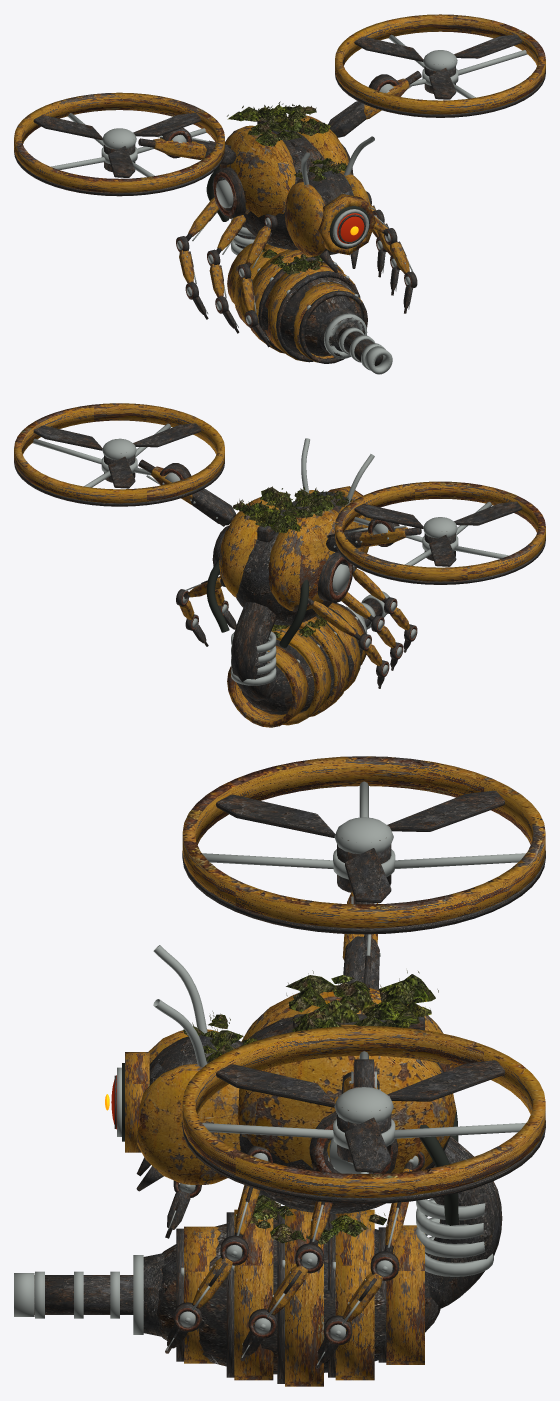
The model's file is rust-wasp-drone.glb.
3 renders of one model, top to bottom at view 1: azimuth 30°, elevation 25°; view 2: azimuth 150°, elevation 25°; view 3: azimuth 270°, elevation 25°, orthographic. The views are drawn at different scales.
Parts seen in each view (by area): view 1: Thorax_Mesh, Rotor_mount_1_Mesh, Rotor_mount_-1_Mesh, Abdomen_Mesh, Head_Mesh, Rotor_-1_Mesh, Rotor_1_Mesh, Stinger_gun_Mesh, Wasp_leg_-1_0_Mesh, Wasp_leg_-1_2_Mesh, Wasp_leg_-1_1_Mesh, Wasp_leg_1_0_Mesh (+1 smaller); view 2: Thorax_Mesh, Abdomen_Mesh, Rotor_mount_1_Mesh, Rotor_mount_-1_Mesh, Rotor_-1_Mesh, Rotor_1_Mesh, Head_Mesh, Wasp_leg_-1_2_Mesh, Wasp_leg_-1_0_Mesh, Wasp_leg_-1_1_Mesh, Wasp_leg_1_2_Mesh, Stinger_gun_Mesh; view 3: Abdomen_Mesh, Rotor_mount_-1_Mesh, Rotor_mount_1_Mesh, Thorax_Mesh, Head_Mesh, Rotor_1_Mesh, Rotor_-1_Mesh, Stinger_gun_Mesh, Wasp_leg_1_0_Mesh, Wasp_leg_1_2_Mesh, Wasp_leg_1_1_Mesh, Wasp_leg_-1_0_Mesh.
Part boxes in pixels (left/top/right/bottom): Thorax_Mesh: left=206, top=101, right=353, bottom=249; Rotor_mount_1_Mesh: left=328, top=14, right=545, bottom=137; Rotor_mount_-1_Mesh: left=14, top=92, right=236, bottom=196; Abdomen_Mesh: left=227, top=218, right=367, bottom=363; Head_Mesh: left=285, top=136, right=376, bottom=272; Rotor_-1_Mesh: left=33, top=112, right=201, bottom=177; Rotor_1_Mesh: left=354, top=34, right=522, bottom=99; Stinger_gun_Mesh: left=319, top=308, right=392, bottom=374; Wasp_leg_-1_0_Mesh: left=238, top=214, right=277, bottom=347; Wasp_leg_-1_2_Mesh: left=176, top=197, right=219, bottom=319; Wasp_leg_-1_1_Mesh: left=207, top=215, right=246, bottom=333; Wasp_leg_1_0_Mesh: left=373, top=215, right=417, bottom=313; Thorax_Mesh: left=206, top=486, right=353, bottom=647; Abdomen_Mesh: left=227, top=602, right=366, bottom=727; Rotor_mount_1_Mesh: left=14, top=403, right=235, bottom=526; Rotor_mount_-1_Mesh: left=326, top=481, right=545, bottom=584; Rotor_-1_Mesh: left=354, top=501, right=522, bottom=566; Rotor_1_Mesh: left=33, top=423, right=201, bottom=488; Head_Mesh: left=295, top=438, right=374, bottom=568; Wasp_leg_-1_2_Mesh: left=307, top=598, right=389, bottom=688; Wasp_leg_-1_0_Mesh: left=352, top=565, right=417, bottom=652; Wasp_leg_-1_1_Mesh: left=341, top=592, right=403, bottom=670; Wasp_leg_1_2_Mesh: left=176, top=577, right=225, bottom=646; Stinger_gun_Mesh: left=346, top=591, right=389, bottom=633; Abdomen_Mesh: left=157, top=1135, right=502, bottom=1386; Rotor_mount_-1_Mesh: left=182, top=756, right=545, bottom=989; Rotor_mount_1_Mesh: left=182, top=1026, right=545, bottom=1204; Thorax_Mesh: left=237, top=970, right=459, bottom=1225; Head_Mesh: left=105, top=945, right=260, bottom=1191; Rotor_1_Mesh: left=216, top=1060, right=504, bottom=1172; Rotor_-1_Mesh: left=216, top=790, right=504, bottom=903; Stinger_gun_Mesh: left=14, top=1253, right=164, bottom=1336; Wasp_leg_1_0_Mesh: left=165, top=1145, right=272, bottom=1353; Wasp_leg_1_2_Mesh: left=315, top=1151, right=424, bottom=1368; Wasp_leg_1_1_Mesh: left=240, top=1201, right=332, bottom=1361; Wasp_leg_-1_0_Mesh: left=165, top=1180, right=201, bottom=1238.
Size of the model in its own units: 3.86 by 1.8 by 2.05.
8 materials, 4 textured.
